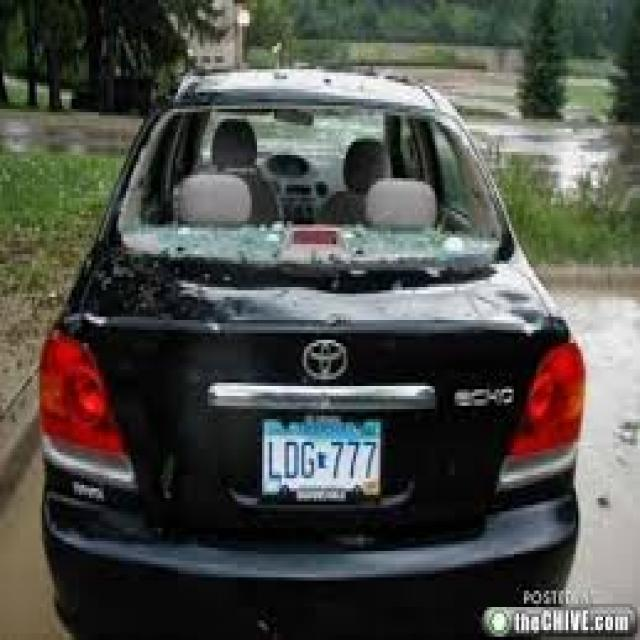minor: (62, 142, 640, 379)
